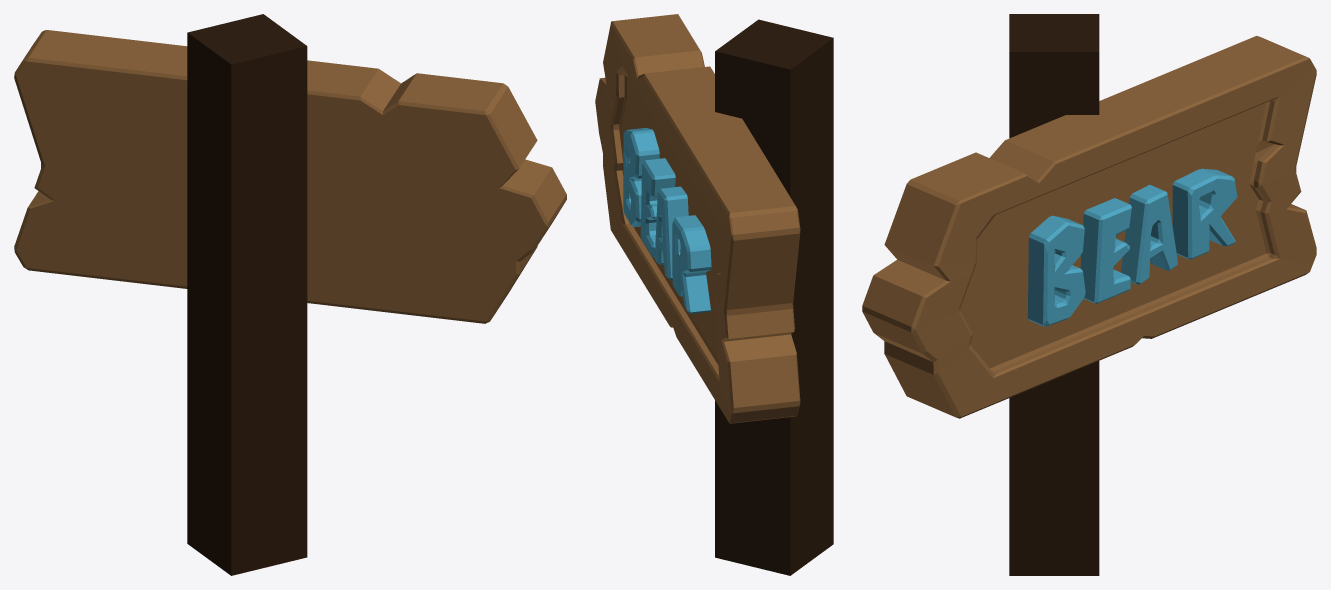
File: BearSign.fbx
3 views of the same model, side by side, from view 1: azimuth 30°, elevation 25°; view 2: azimuth 150°, elevation 25°; view 3: azimuth 270°, elevation 25° (orthographic). The views are drawn at different scales.
Parts seen in each view (by area): view 1: Cube.010; view 2: Cube.010; view 3: Cube.010.
Part boxes in pixels (x1,y1,x2,y2): Cube.010: (14, 14, 566, 575); Cube.010: (595, 14, 833, 575); Cube.010: (862, 14, 1316, 575).
Bounding box in the file's own units: 206 × 266 × 209.
